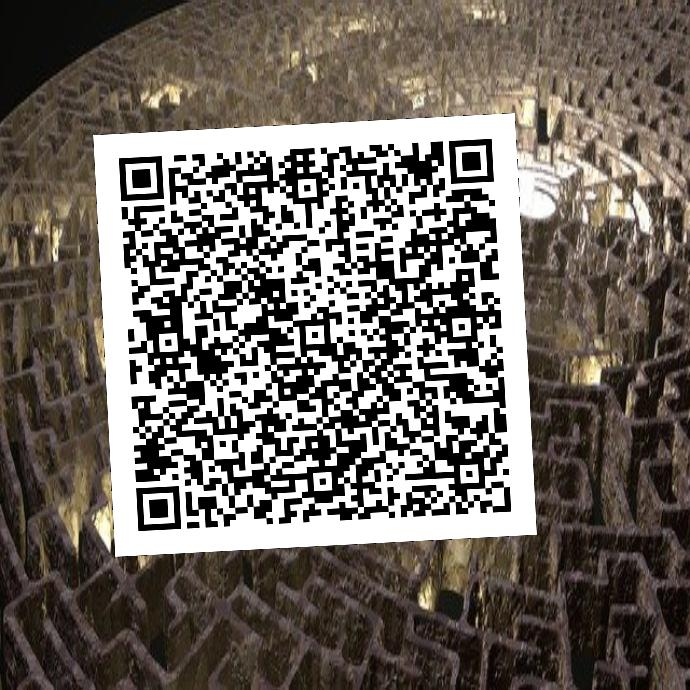qr_code: (93, 113, 536, 556)
